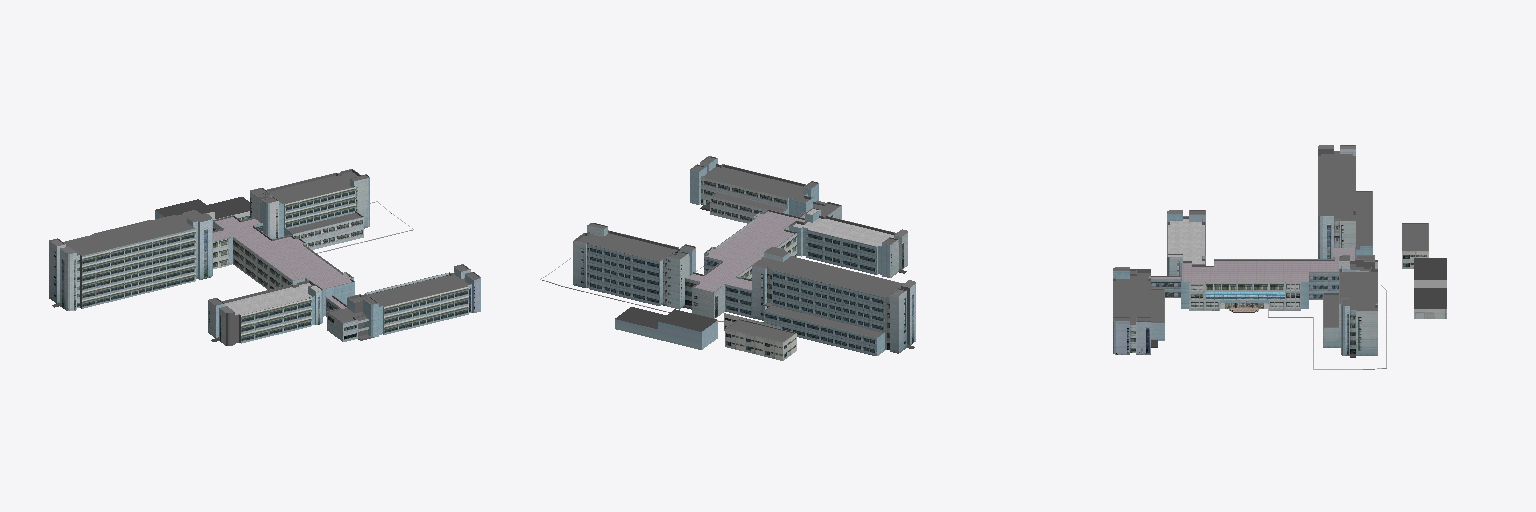
3 renders of one model, left to right at view 1: azimuth 30°, elevation 25°; view 2: azimuth 150°, elevation 25°; view 3: azimuth 270°, elevation 25°, orthographic.
Parts seen in each view (by area): view 1: VMtl1272, VMtl1744, VMtl1259, VMtl1285, VMtl1609, VMtl1270, VMtl1745, VMtl1601, VMtl1603, VMtl1588, VMtl1614, VMtl1279 (+6 smaller); view 2: VMtl1274, VMtl1744, VMtl1285, VMtl1589, VMtl1270, VMtl1608, VMtl1266, VMtl1283, VMtl1761, VMtl1603, VMtl1290, VMtl1764 (+9 smaller); view 3: VMtl1285, VMtl1744, VMtl1270, VMtl1603, VMtl1764, VMtl1599, VMtl1614, VMtl1746, VMtl1743, VMtl1745, VMtl1291, VMtl1279 (+2 smaller).
Part boxes in pixels (left/top/right/bottom): VMtl1272: left=82, top=228, right=195, bottom=308; VMtl1744: left=213, top=217, right=351, bottom=308; VMtl1259: left=384, top=286, right=468, bottom=334; VMtl1285: left=64, top=210, right=211, bottom=255; VMtl1609: left=241, top=298, right=311, bottom=343; VMtl1270: left=330, top=265, right=479, bottom=340; VMtl1745: left=213, top=237, right=342, bottom=289; VMtl1601: left=285, top=187, right=355, bottom=228; VMtl1603: left=251, top=172, right=368, bottom=233; VMtl1588: left=293, top=217, right=363, bottom=249; VMtl1614: left=225, top=283, right=311, bottom=314; VMtl1279: left=60, top=218, right=212, bottom=309; VMtl1274: left=764, top=270, right=884, bottom=355; VMtl1744: left=687, top=211, right=804, bottom=291; VMtl1285: left=753, top=247, right=902, bottom=337; VMtl1589: left=589, top=245, right=659, bottom=305; VMtl1270: left=692, top=157, right=838, bottom=215; VMtl1608: left=806, top=230, right=876, bottom=274; VMtl1266: left=703, top=178, right=787, bottom=223; VMtl1283: left=752, top=265, right=906, bottom=353; VMtl1761: left=615, top=319, right=717, bottom=349; VMtl1603: left=578, top=224, right=694, bottom=260; VMtl1290: left=725, top=329, right=796, bottom=360; VMtl1764: left=615, top=307, right=716, bottom=331; VMtl1285: left=1318, top=151, right=1371, bottom=248; VMtl1744: left=1151, top=248, right=1377, bottom=282; VMtl1270: left=1113, top=268, right=1163, bottom=324; VMtl1603: left=1324, top=256, right=1377, bottom=326; VMtl1764: left=1414, top=258, right=1446, bottom=308; VMtl1599: left=1323, top=270, right=1377, bottom=355; VMtl1614: left=1168, top=219, right=1204, bottom=263; VMtl1746: left=1189, top=283, right=1300, bottom=310; VMtl1743: left=1151, top=273, right=1338, bottom=299; VMtl1745: left=1206, top=282, right=1284, bottom=291; VMtl1291: left=1402, top=224, right=1427, bottom=250; VMtl1279: left=1318, top=215, right=1333, bottom=258.
Bounding box in the file's own units: 218 × 34.42 × 181.
Materials: 88 (29 with a texture image).